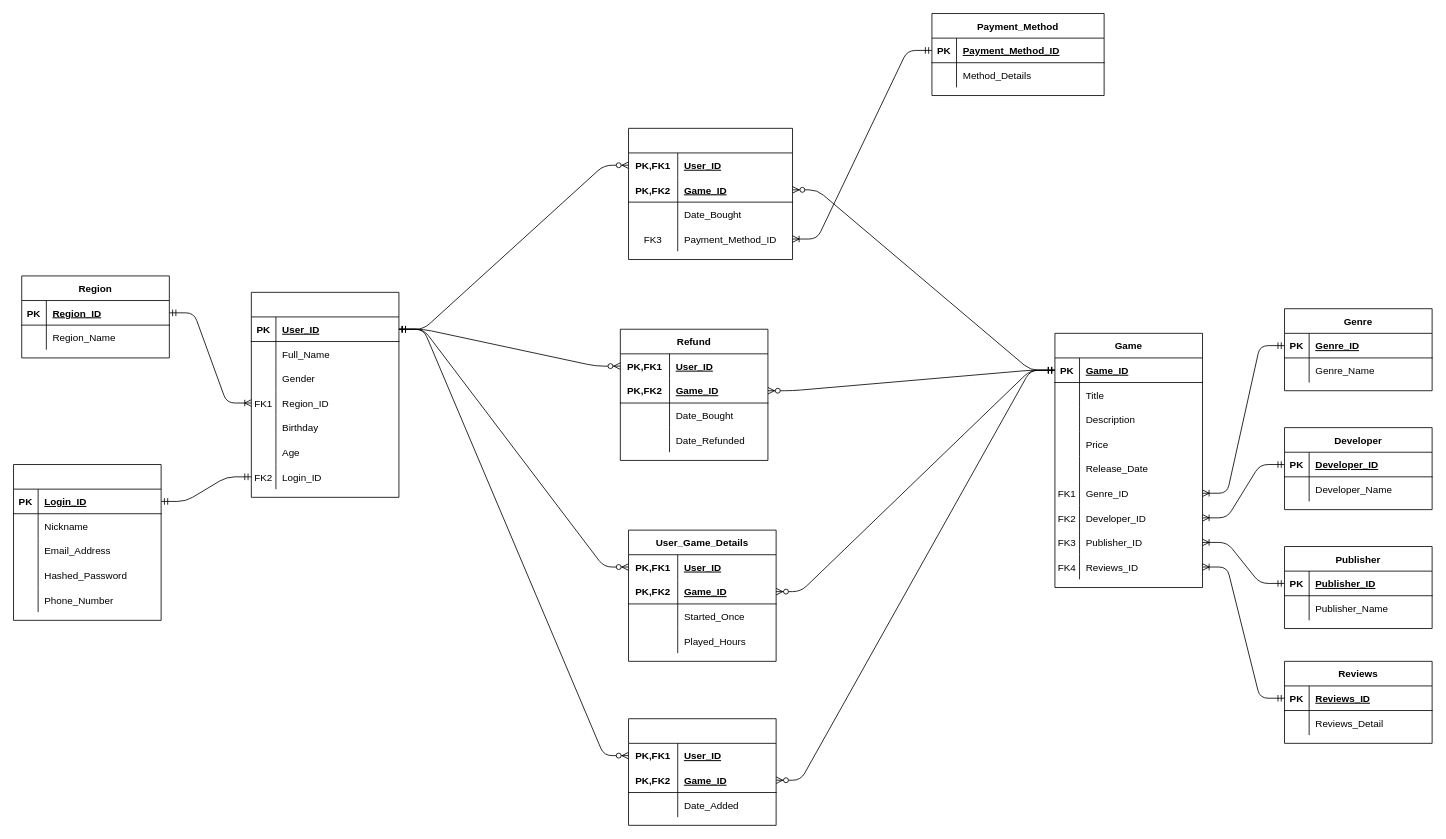
Image size: 1446x839. Some labels were removed from this diagram. Each missing label, with the box of its shape:
Client: (251, 292, 399, 497)
Credentials: (13, 464, 161, 620)
Sales: (628, 128, 793, 260)
Wishlist: (628, 718, 776, 825)
